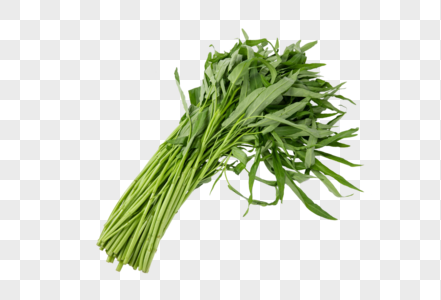Kangkung: (57, 18, 389, 278)
